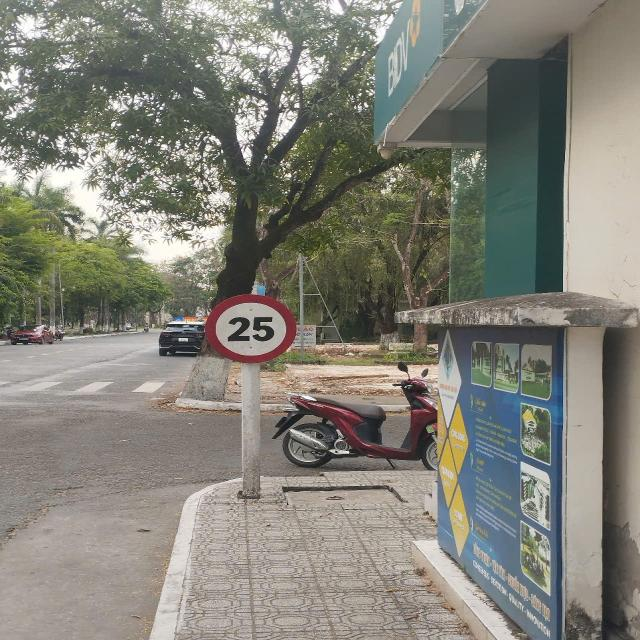Tre_Em: (204, 294, 296, 362)
